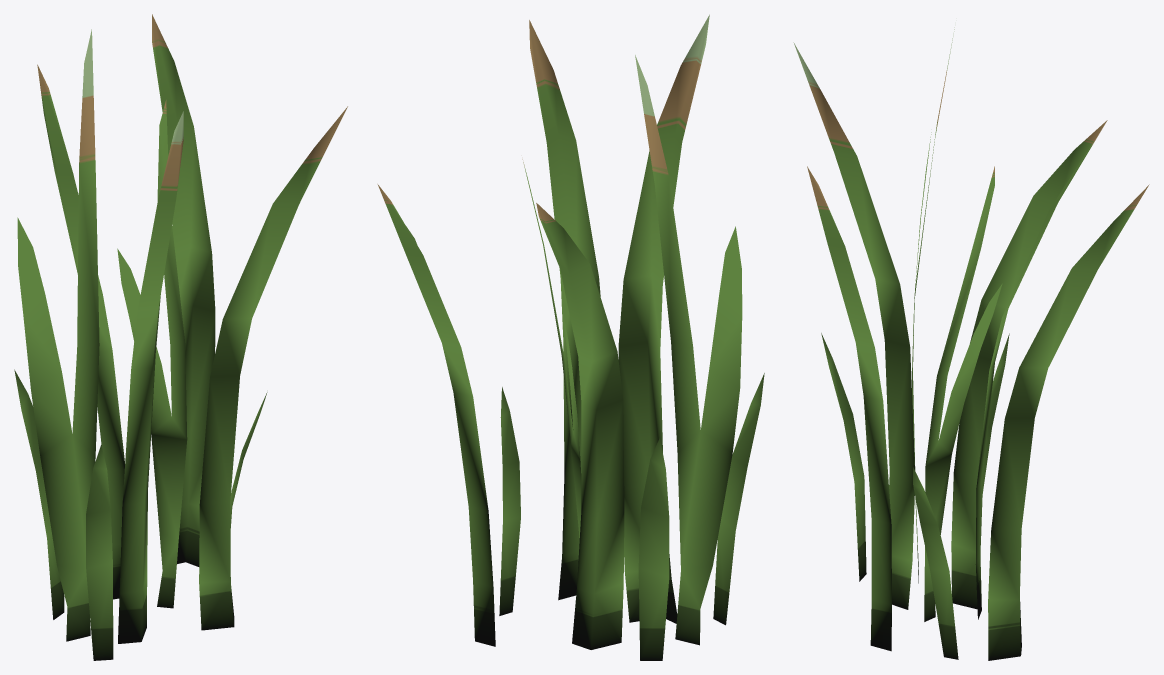
Rendered from Grass_Common_Short__go_ruins.glb.
3 renders of one model, left to right at view 1: azimuth 30°, elevation 25°; view 2: azimuth 150°, elevation 25°; view 3: azimuth 270°, elevation 25°, orthographic. The views are drawn at different scales.
Parts seen in each view (by area): view 1: Grass_Common_Short; view 2: Grass_Common_Short; view 3: Grass_Common_Short.
Boxes of the visible parts, x1,y1,x2,y2 form: Grass_Common_Short: (14, 14, 347, 660); Grass_Common_Short: (377, 14, 764, 660); Grass_Common_Short: (793, 27, 1149, 660).
Bounding box in the file's own units: 0.6389 × 1.33 × 0.7373.
1 material, 1 textured.
